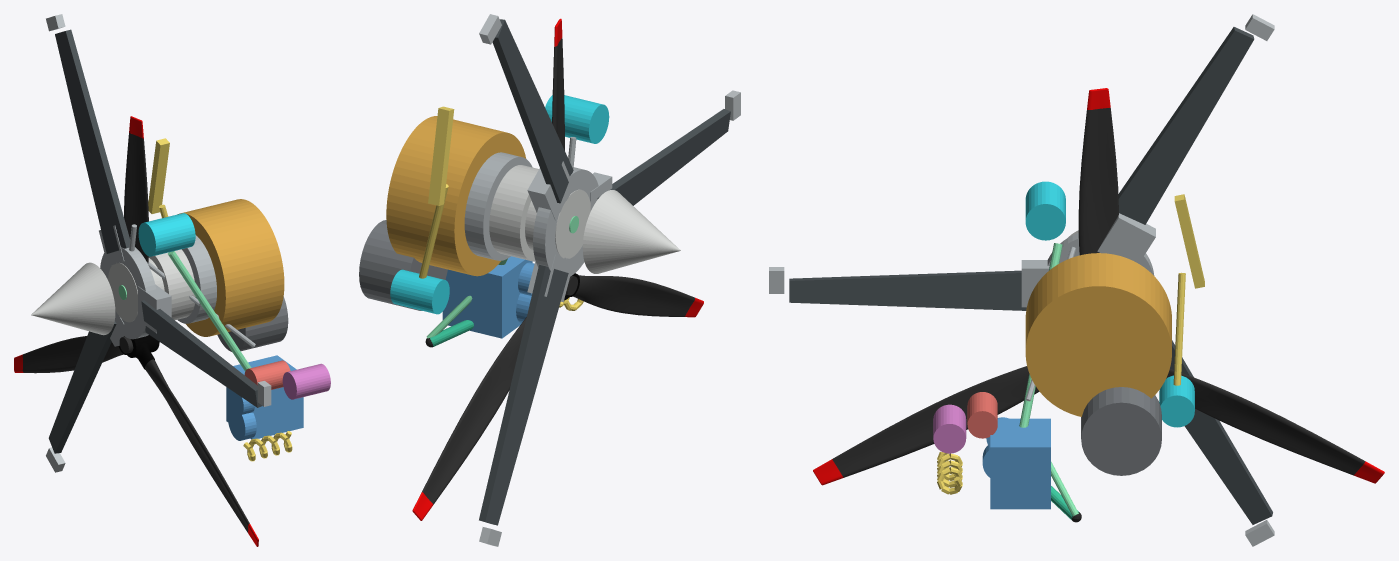
Rendered from hartzell_propeller.glb.
3 renders of one model, left to right at view 1: azimuth 30°, elevation 25°; view 2: azimuth 150°, elevation 25°; view 3: azimuth 270°, elevation 25°, orthographic. The views are drawn at different scales.
Parts seen in each view (by area): view 1: reduction_gearbox, attached_propeller_Propeller.001, prop_blade_3, spinner_body_front_taper, prop_blade_1, prop_blade_2, primary_governor_csu, prop_servo, front_hub_shell, rear_collar_and_mount, blade_root_clamps, prop_hub (+8 smaller); view 2: reduction_gearbox, attached_propeller_Propeller.001, prop_blade_2, spinner_body_front_taper, prop_blade_3, primary_governor_csu, prop_blade_1, front_hub_shell, rear_collar_and_mount, accessory_gearbox, prop_hub, blade_root_clamps (+7 smaller); view 3: reduction_gearbox, attached_propeller_Propeller.001, prop_blade_1, prop_blade_3, accessory_gearbox, primary_governor_csu, prop_blade_2, prop_servo, blade_3_root_socket, beta_valve, relief_valve, pilot_valve (+3 smaller).
Boxes of the visible parts, box(x1,y1,x2,y2) form: reduction_gearbox: box(177, 199, 284, 336); attached_propeller_Propeller.001: box(14, 116, 258, 546); prop_blade_3: box(55, 29, 130, 253); spinner_body_front_taper: box(31, 262, 115, 335); prop_blade_1: box(141, 300, 261, 407); prop_blade_2: box(48, 321, 116, 453); primary_governor_csu: box(226, 355, 303, 439); prop_servo: box(138, 213, 195, 256); front_hub_shell: box(149, 249, 195, 320); rear_collar_and_mount: box(177, 235, 216, 323); blade_root_clamps: box(100, 247, 156, 339); prop_hub: box(108, 258, 164, 322); reduction_gearbox: box(386, 116, 526, 276); attached_propeller_Propeller.001: box(412, 18, 703, 520); prop_blade_2: box(479, 264, 568, 525); spinner_body_front_taper: box(582, 190, 680, 273); prop_blade_3: box(492, 19, 573, 203); primary_governor_csu: box(442, 256, 532, 338); prop_blade_1: box(597, 109, 730, 205); front_hub_shell: box(489, 165, 538, 261); rear_collar_and_mount: box(464, 152, 532, 260); accessory_gearbox: box(359, 220, 447, 310); prop_hub: box(525, 189, 590, 258); blade_root_clamps: box(533, 167, 598, 276); reduction_gearbox: box(1025, 253, 1171, 416); attached_propeller_Propeller.001: box(813, 88, 1384, 485); prop_blade_1: box(789, 270, 1026, 310); prop_blade_3: box(1118, 27, 1254, 224); accessory_gearbox: box(1081, 387, 1161, 475); primary_governor_csu: box(990, 418, 1050, 509); prop_blade_2: box(1170, 340, 1272, 524); prop_servo: box(1025, 181, 1065, 240); blade_3_root_socket: box(1097, 213, 1155, 263); beta_valve: box(1159, 375, 1194, 427); relief_valve: box(933, 404, 966, 453); pilot_valve: box(967, 392, 997, 438).
Bounding box in the file's own units: 2.64 × 4.62 × 4.87.
